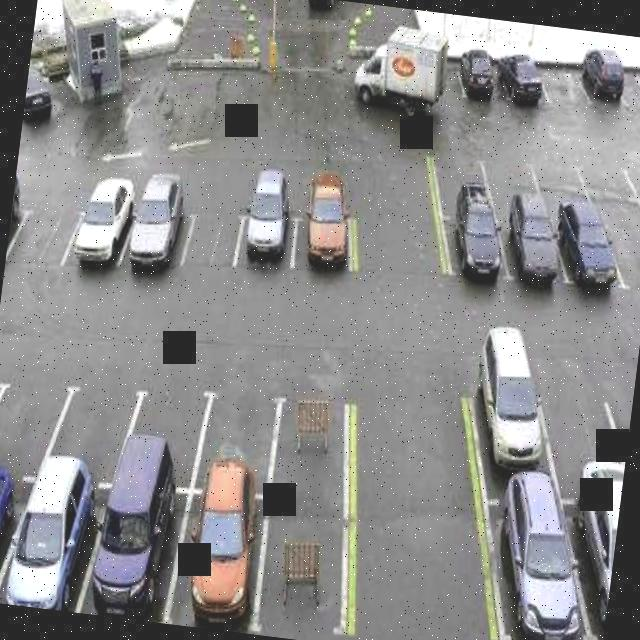car: (464, 472, 606, 640), (72, 478, 190, 624), (171, 482, 277, 633), (0, 468, 107, 614), (252, 492, 356, 632), (456, 361, 558, 490), (264, 393, 358, 507), (548, 501, 619, 640), (544, 208, 623, 301), (486, 202, 564, 291), (288, 201, 362, 294), (120, 203, 193, 286), (61, 199, 133, 283), (436, 204, 504, 287), (233, 206, 304, 285), (568, 44, 632, 128), (448, 40, 511, 120), (494, 45, 550, 118), (2, 206, 30, 286)
free: (103, 367, 220, 498), (30, 374, 150, 500), (534, 358, 636, 492), (189, 378, 287, 500), (0, 365, 66, 486), (2, 193, 84, 288), (167, 207, 247, 291), (422, 143, 492, 214), (580, 149, 640, 226), (485, 150, 547, 222), (534, 148, 590, 223), (535, 48, 591, 120), (607, 368, 636, 494), (597, 214, 640, 298), (610, 49, 640, 123), (626, 146, 640, 216)
